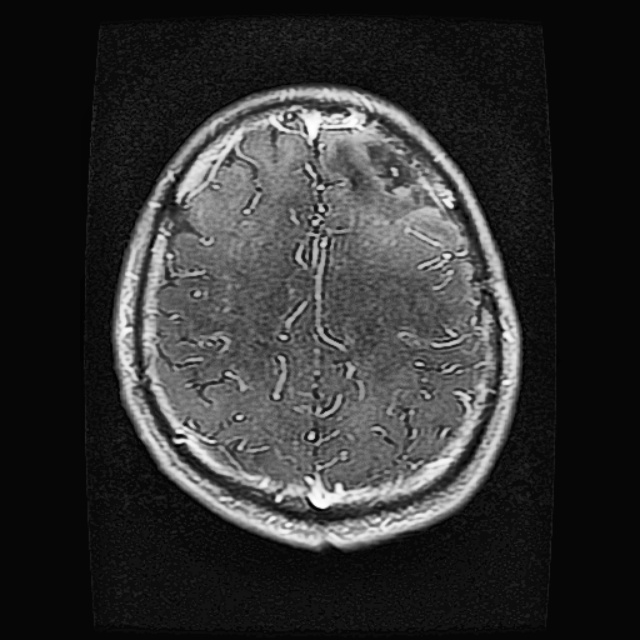Meningioma: (328, 133, 442, 219)
